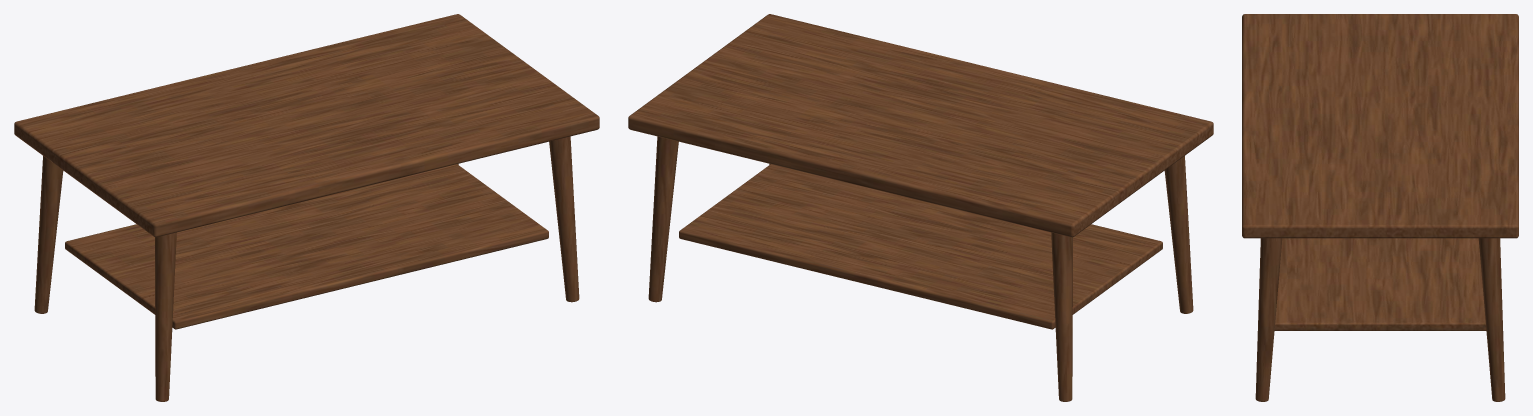
The model's file is coffee_table.glb.
The picture shows the model from 3 angles, left to right: view 1: azimuth 30°, elevation 25°; view 2: azimuth 150°, elevation 25°; view 3: azimuth 270°, elevation 25°; orthographic projection. The views are drawn at different scales.
Visible parts, largest first — view 1: Cube; view 2: Cube; view 3: Cube.
Boxes of the visible parts, bbox=[...] form: Cube: bbox=[14, 14, 599, 401]; Cube: bbox=[628, 14, 1213, 401]; Cube: bbox=[1242, 14, 1518, 401].
Size of the model in its own units: 1 by 0.4009 by 0.55.
Materials: 1 (1 with a texture image).
